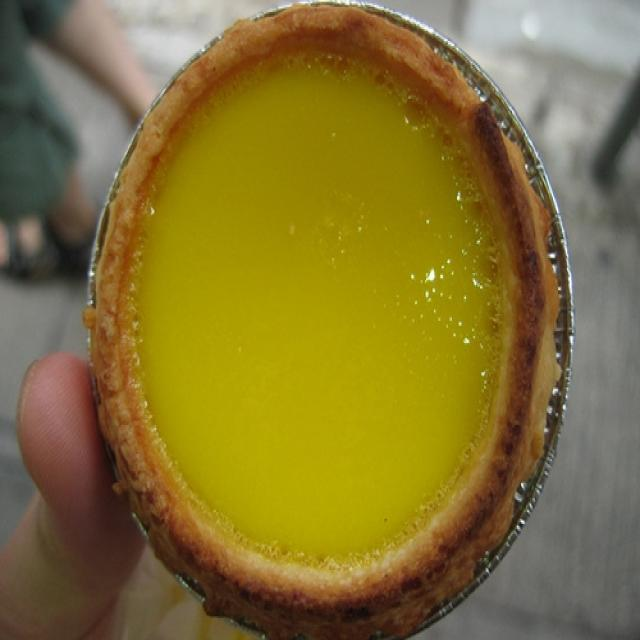炸货点心: (47, 17, 589, 623)
蛋糕甜品: (47, 17, 589, 623)
